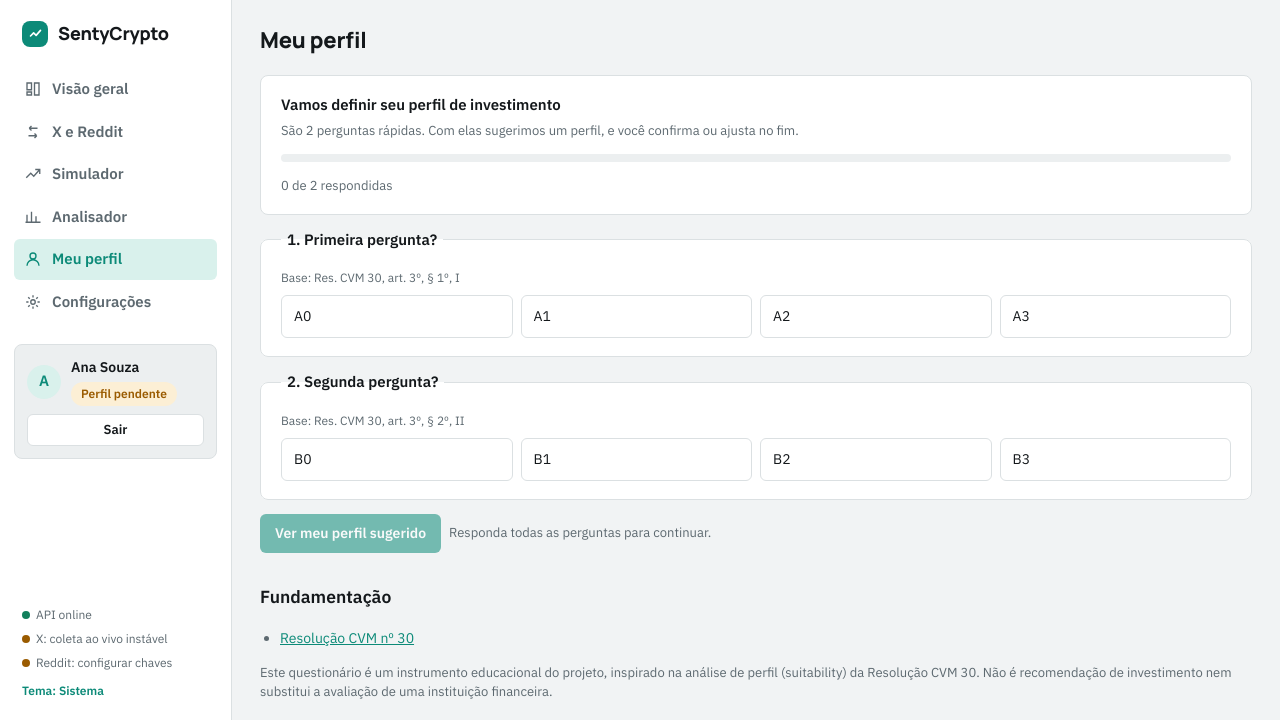
Test case: cadastro e perfil › o questionário sugere o perfil e a pessoa confirma outro
expect the text "1. Primeira pergunta?" is shown: met, box x1=281 y1=228 x2=443 y2=251
expect the text "Base: Res. CVM 30, art. 3º, § 1º, I" is shown: met, box x1=281 y1=270 x2=460 y2=285
Click the radio button labelled "A3" at (1115, 316), box x1=1000 y1=295 x2=1231 y2=338
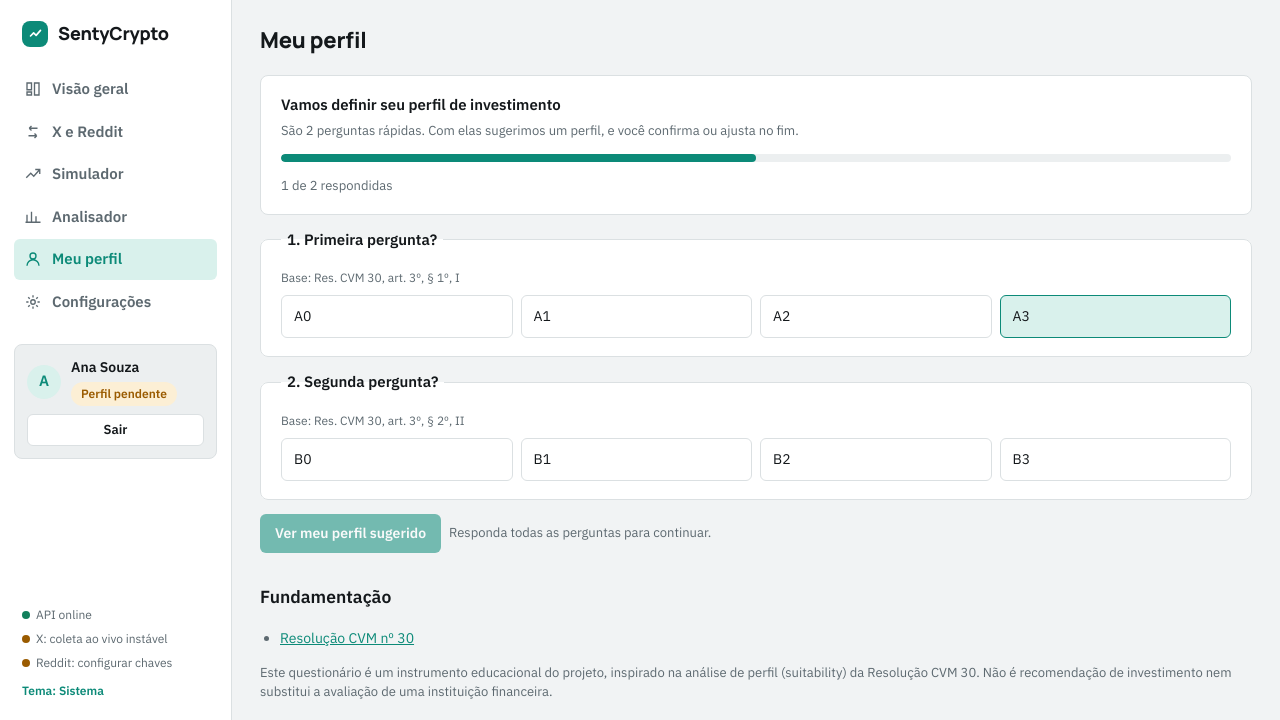
expect the button "Ver meu perfil sugerido" is disabled: met, box x1=260 y1=514 x2=441 y2=552
Click the radio button labelled "B3" at (1115, 459), box x1=1000 y1=438 x2=1231 y2=480
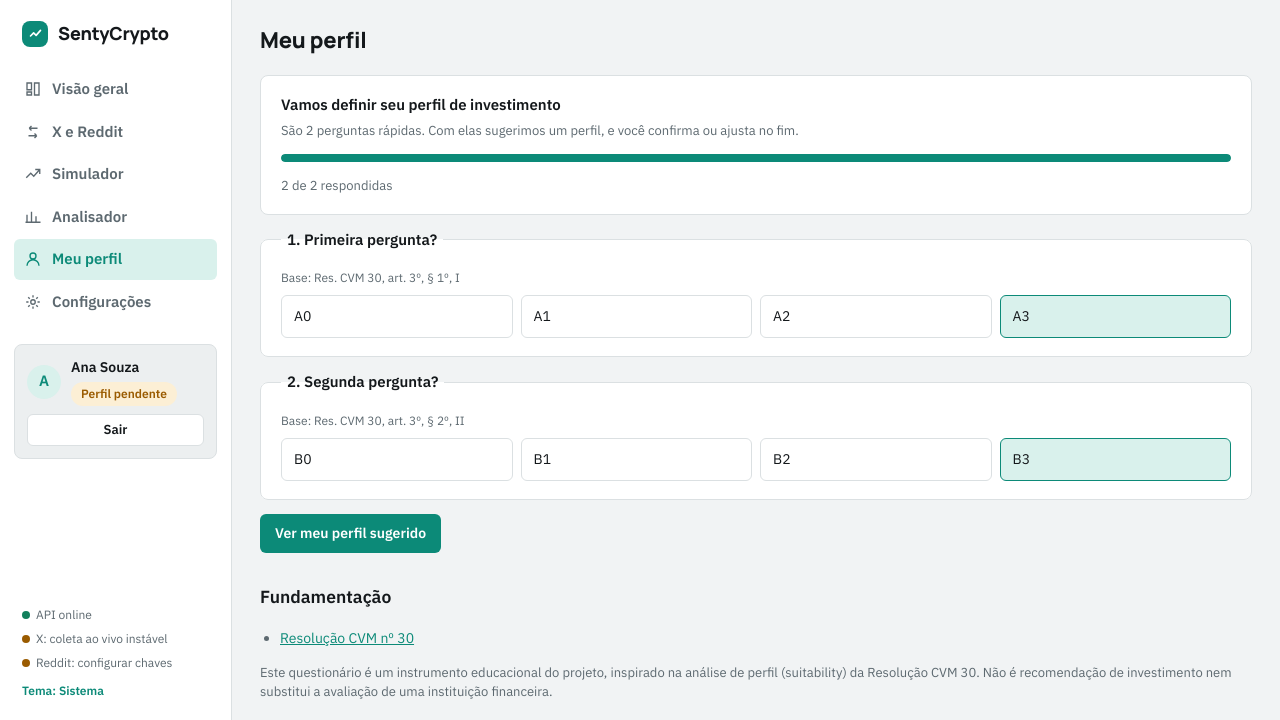
expect the button "Ver meu perfil sugerido" is enabled: met
Click the button "Ver meu perfil sugerido" at (350, 533), box x1=260 y1=514 x2=441 y2=552
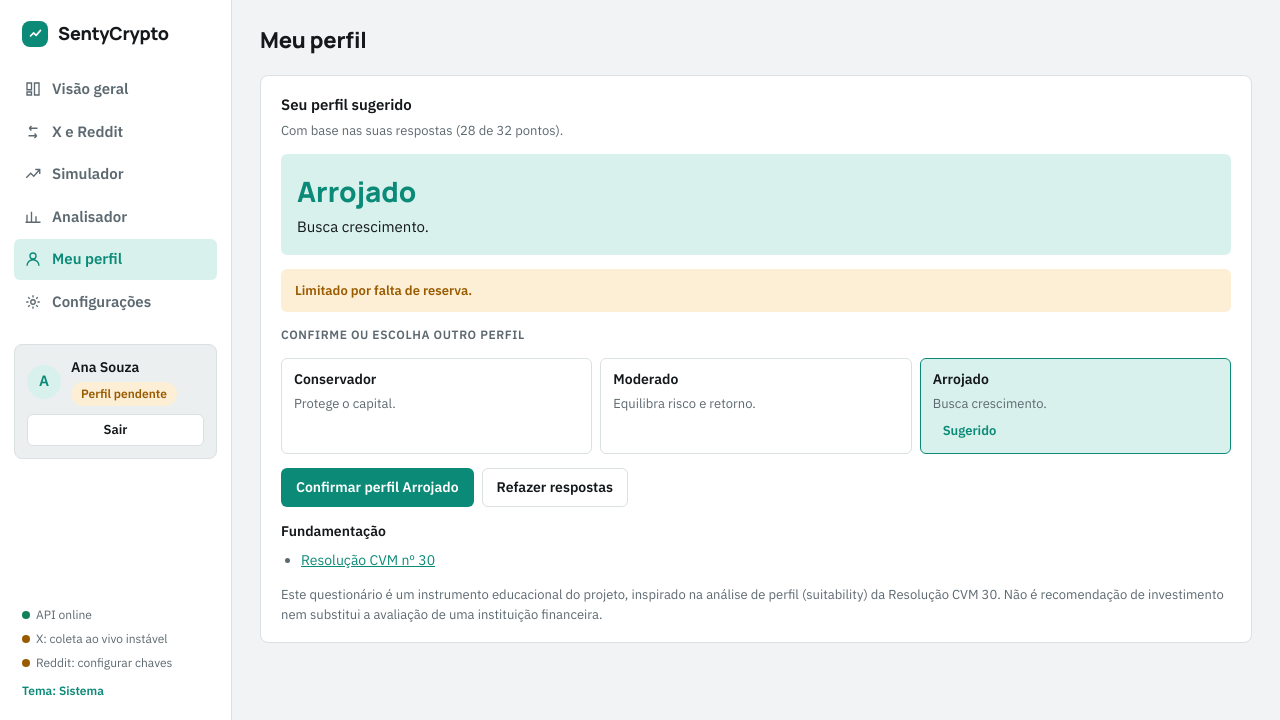
expect the heading "Seu perfil sugerido" is shown: met, box x1=281 y1=95 x2=412 y2=114
expect the text "Limitado por falta de reserva." is shown: met, box x1=281 y1=268 x2=1231 y2=312
Click the radio button labelled "Conservador Protege o capital." at (335, 379), box x1=281 y1=358 x2=592 y2=454
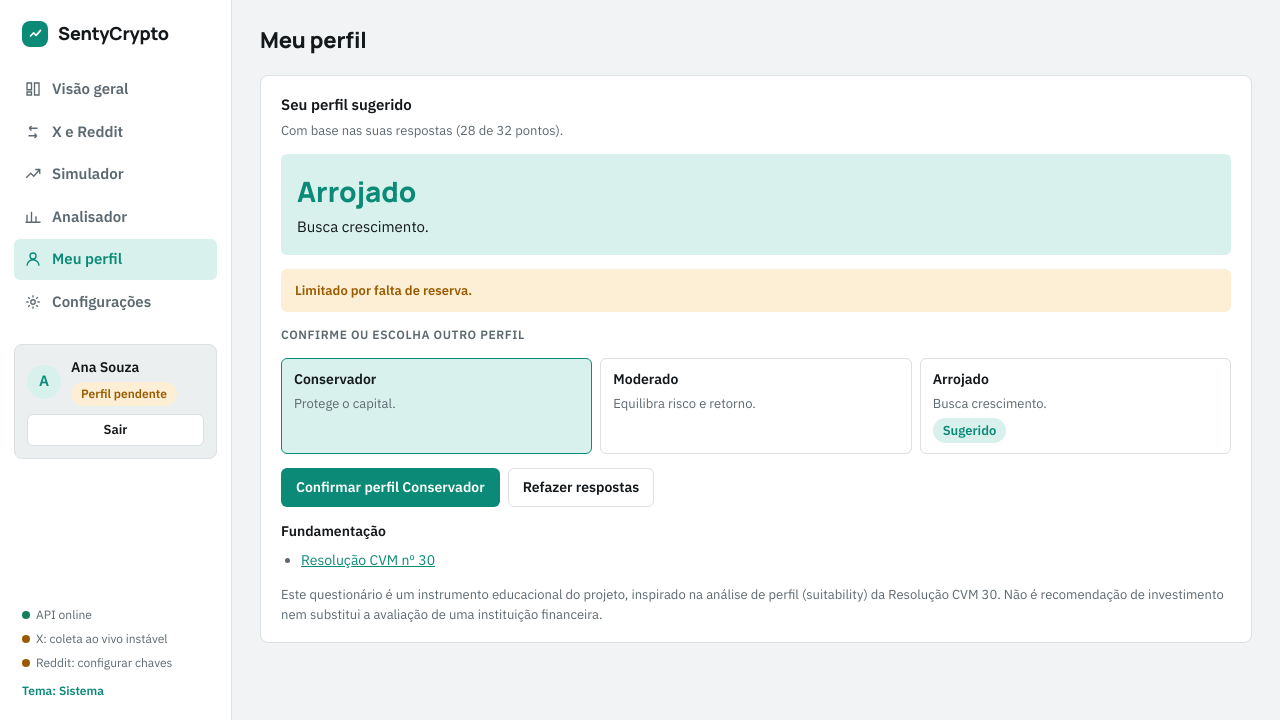
Click the button "Confirmar perfil Conservador" at (390, 488), box x1=281 y1=468 x2=500 y2=507
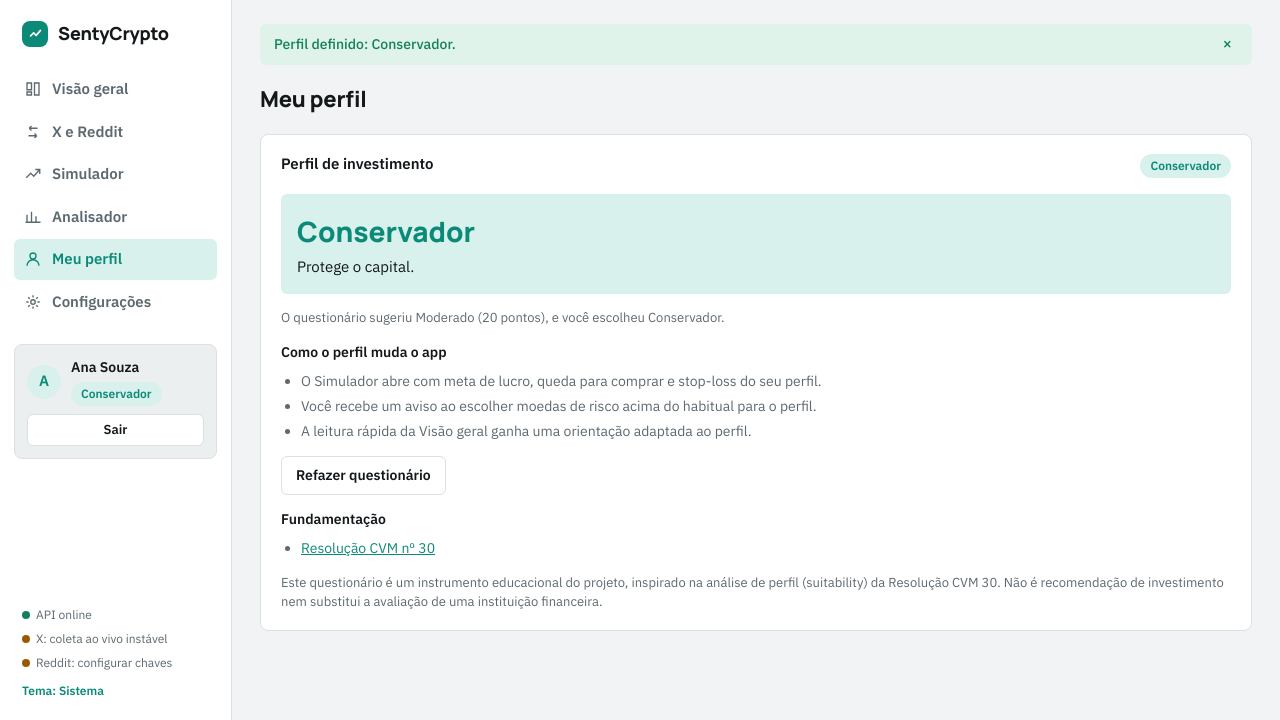
expect the text "Conservador" below "Ana Souza" is shown: met, box x1=81 y1=386 x2=152 y2=401
